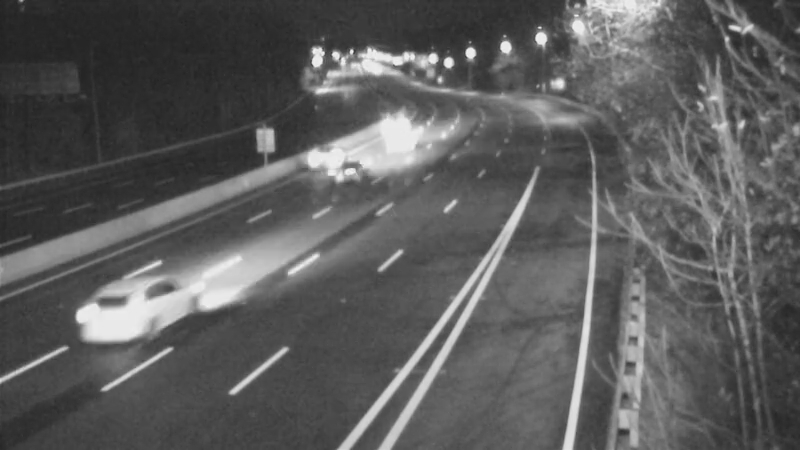vehicle: (60, 264, 170, 374), (278, 116, 358, 196), (307, 140, 387, 220), (367, 95, 417, 145), (385, 113, 435, 163)
